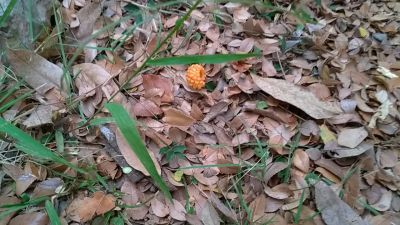eggs: (184, 61, 209, 90)
